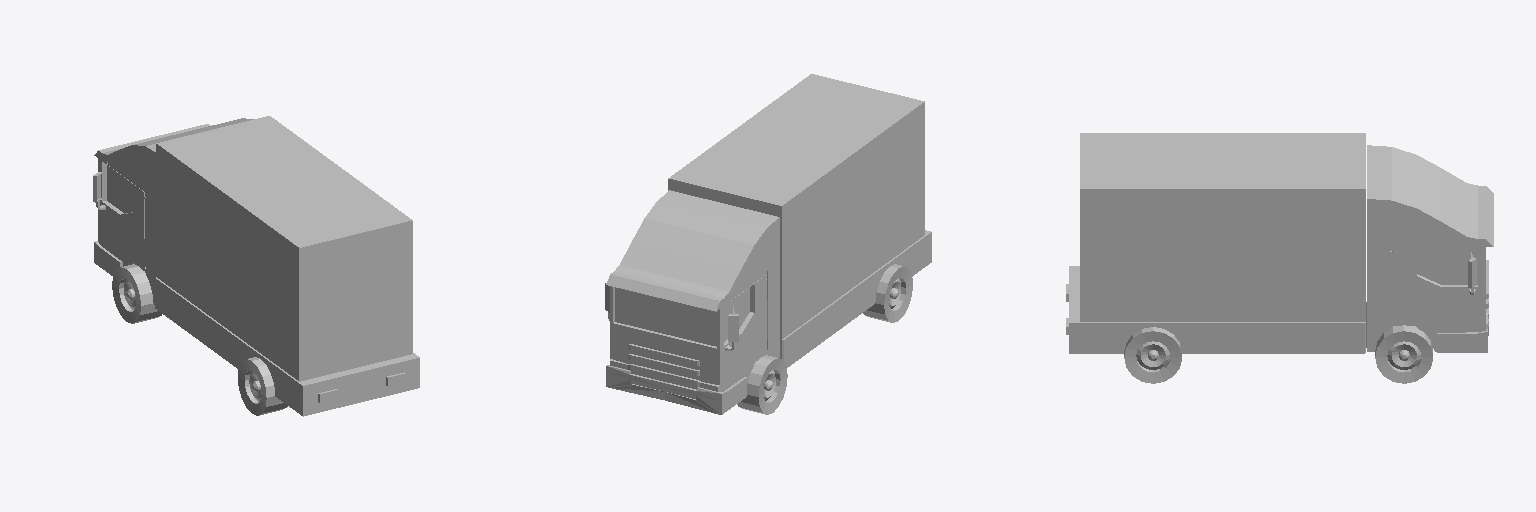
File: big_car.obj
3 views of the same model, side by side, from view 1: azimuth 30°, elevation 25°; view 2: azimuth 150°, elevation 25°; view 3: azimuth 270°, elevation 25° (orthographic).
Visible parts, largest first — view 1: Truck6; view 2: Truck6; view 3: Truck6.
Part boxes in pixels (x1,y1,x2,y2): Truck6: (93, 116, 419, 416); Truck6: (605, 74, 931, 414); Truck6: (1066, 133, 1493, 383).
Bounding box in the file's own units: 0.921 × 1.24 × 2.53.